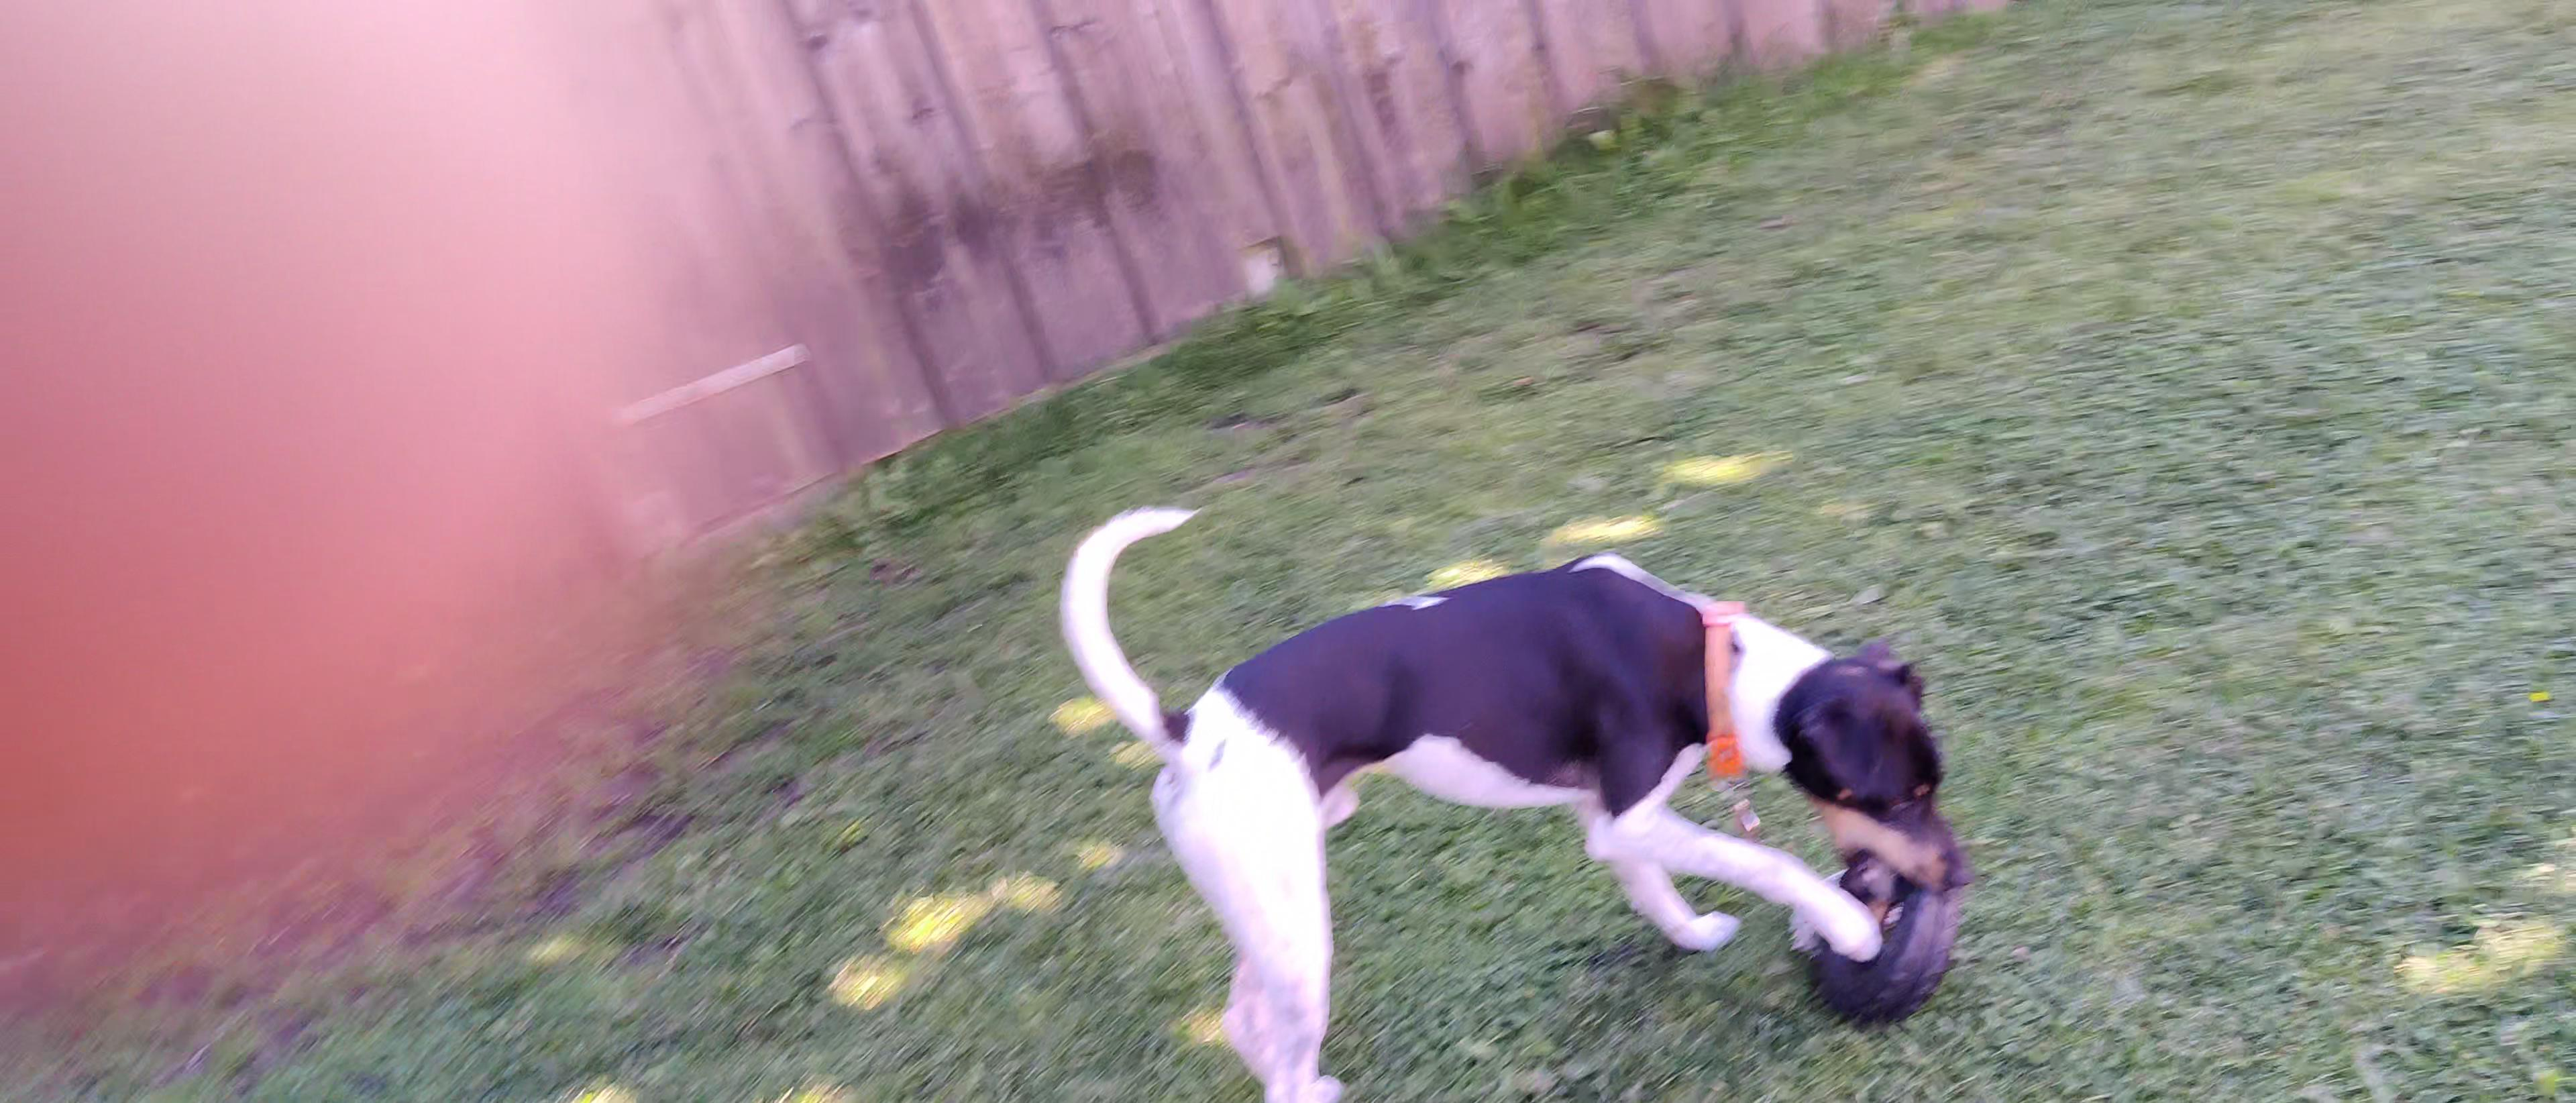Dog: (1061, 482, 1985, 1103)
